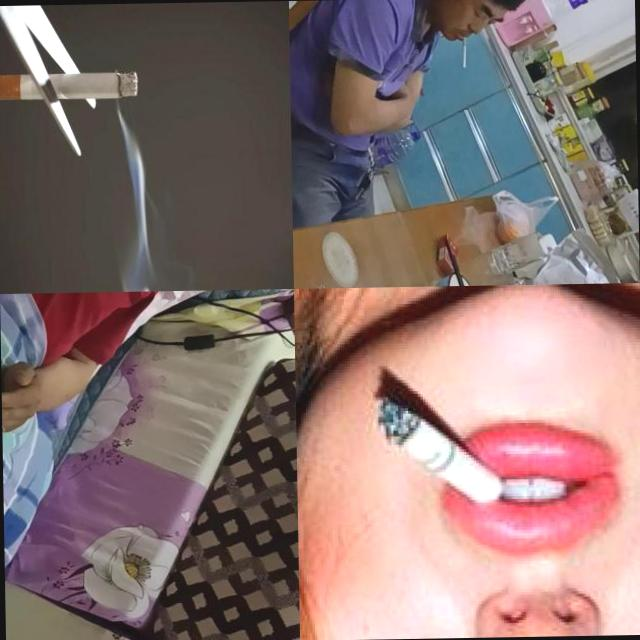smoke: (377, 398, 502, 504), (0, 69, 139, 101), (462, 37, 467, 68)
